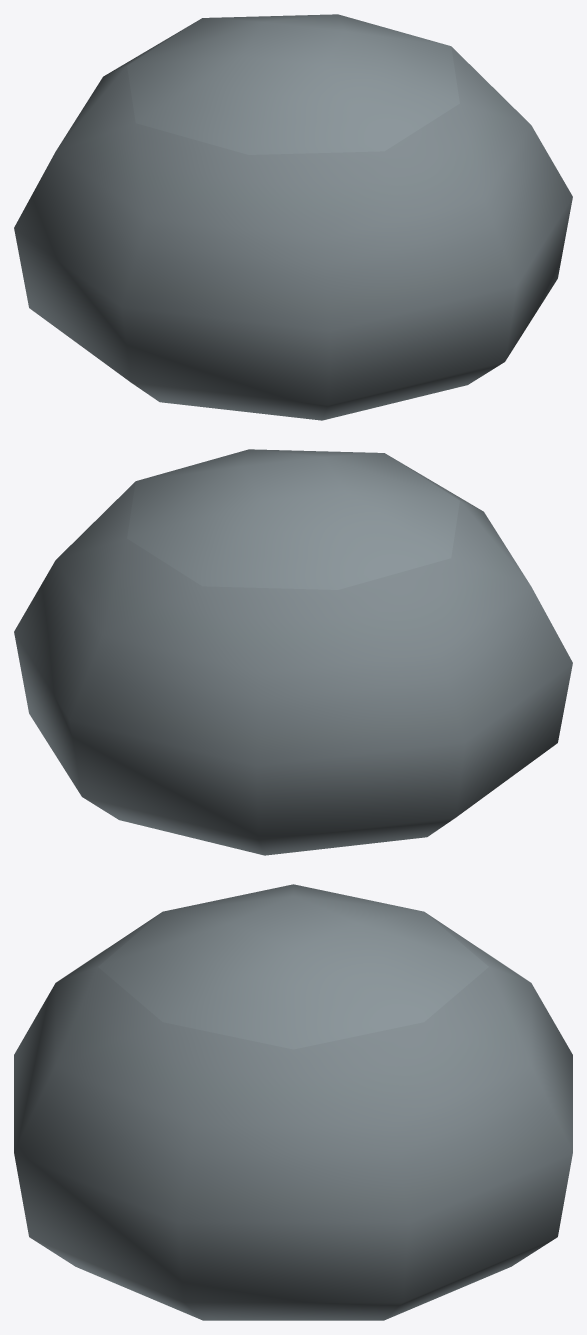
The model's file is Rock_5_B_Color1.fbx.
3 views of the same model, one above another, from view 1: azimuth 30°, elevation 25°; view 2: azimuth 150°, elevation 25°; view 3: azimuth 270°, elevation 25° (orthographic). The views are drawn at different scales.
Visible parts, largest first — view 1: Rock_5_B_Color1; view 2: Rock_5_B_Color1; view 3: Rock_5_B_Color1.
Part boxes in pixels (x1,y1,x2,y2): Rock_5_B_Color1: [14, 14, 572, 420]; Rock_5_B_Color1: [14, 449, 572, 855]; Rock_5_B_Color1: [14, 884, 572, 1320].
Bounding box in the file's own units: 0.3336 × 0.2036 × 0.3336.
